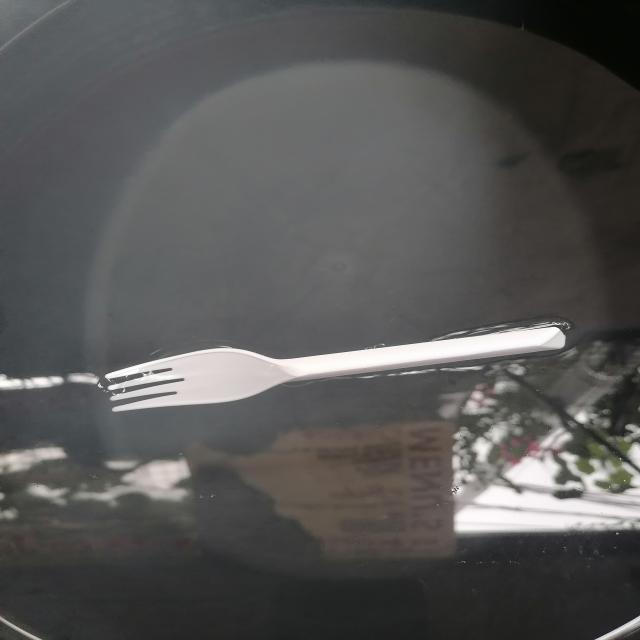Plastic Fork: (97, 317, 572, 412)
